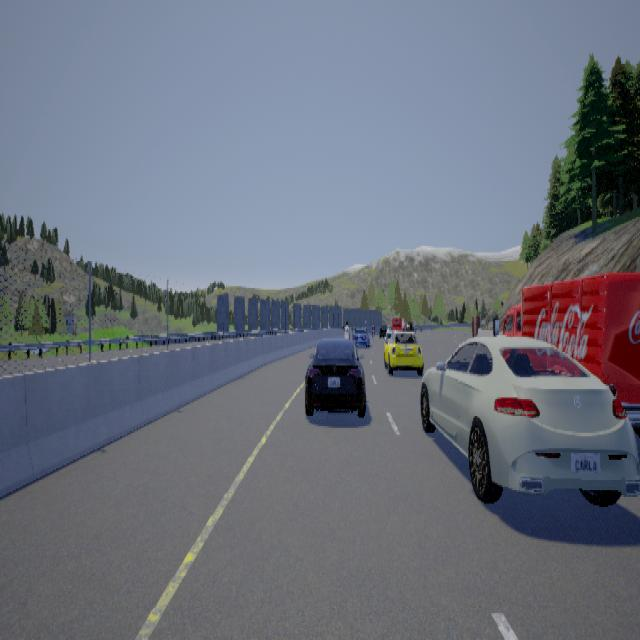vehicle: (417, 334, 639, 506), (491, 271, 639, 435), (304, 327, 369, 416), (381, 326, 429, 376)
